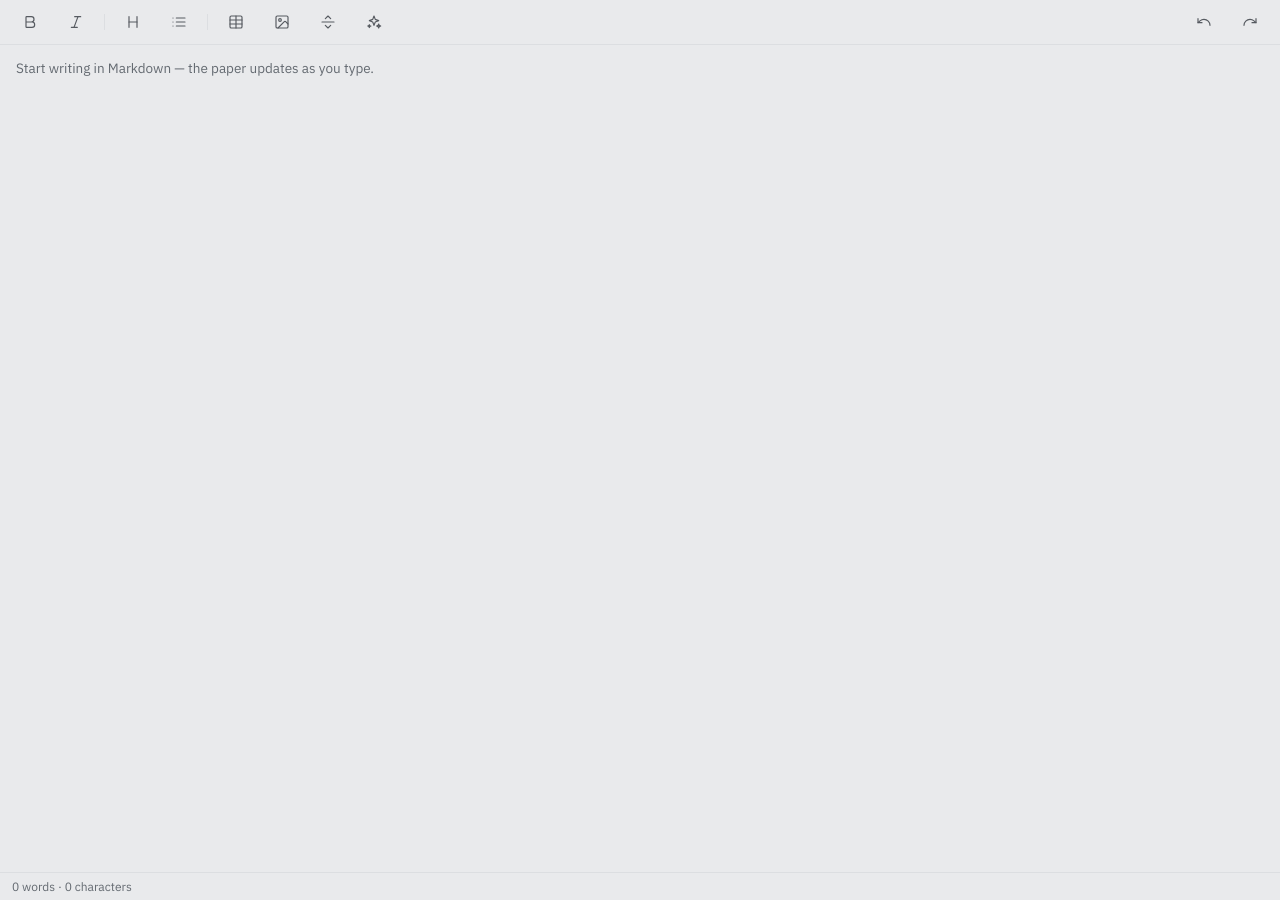
Test: the popup › opens from the hint on a click
Type "/ai" into the field labelled "Start writing in Markdown — the paper updates as you type.". click: (195, 68)
box: [16, 59, 374, 77]
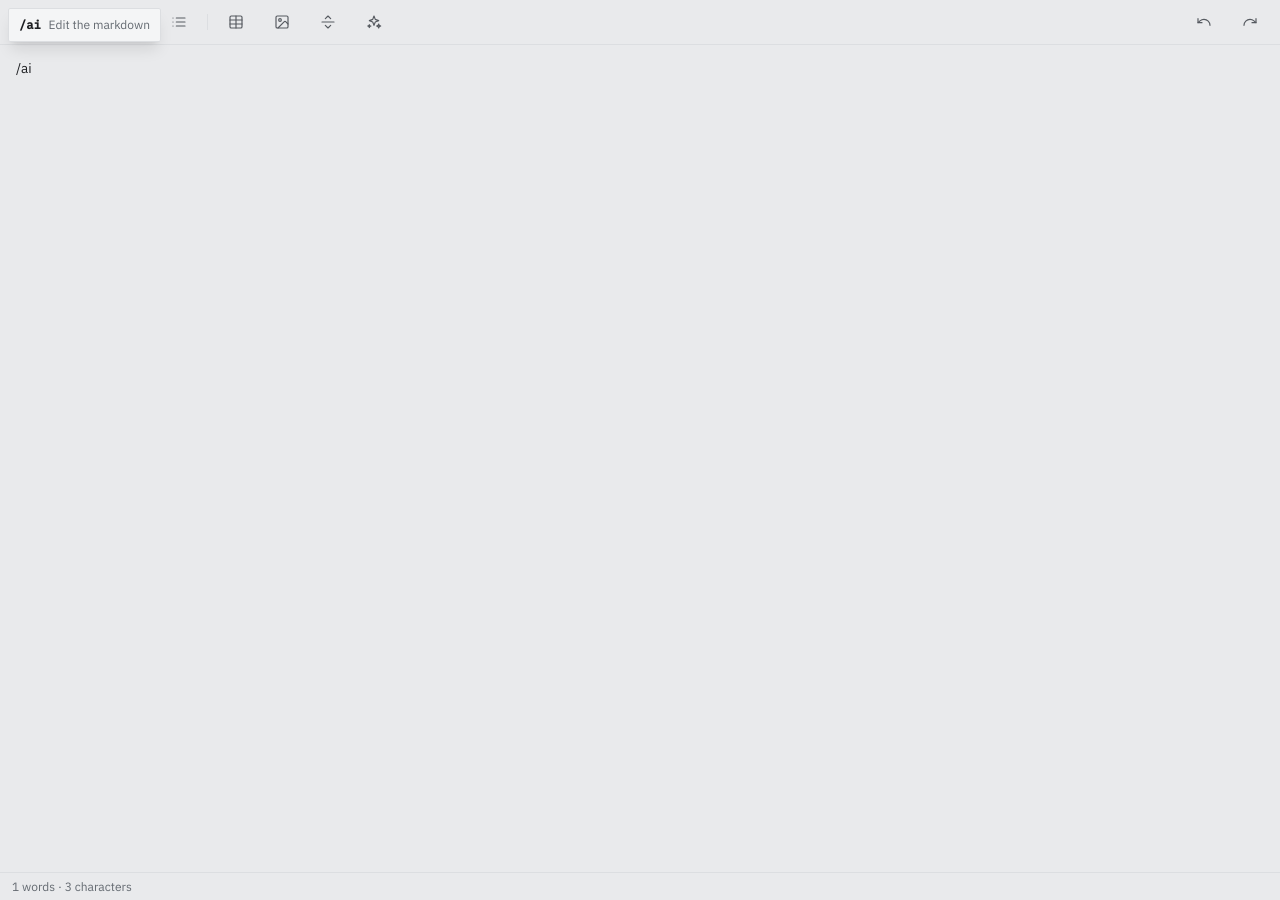
Click the button "/ai Edit the markdown". click: click(84, 25)
box: [9, 13, 160, 37]
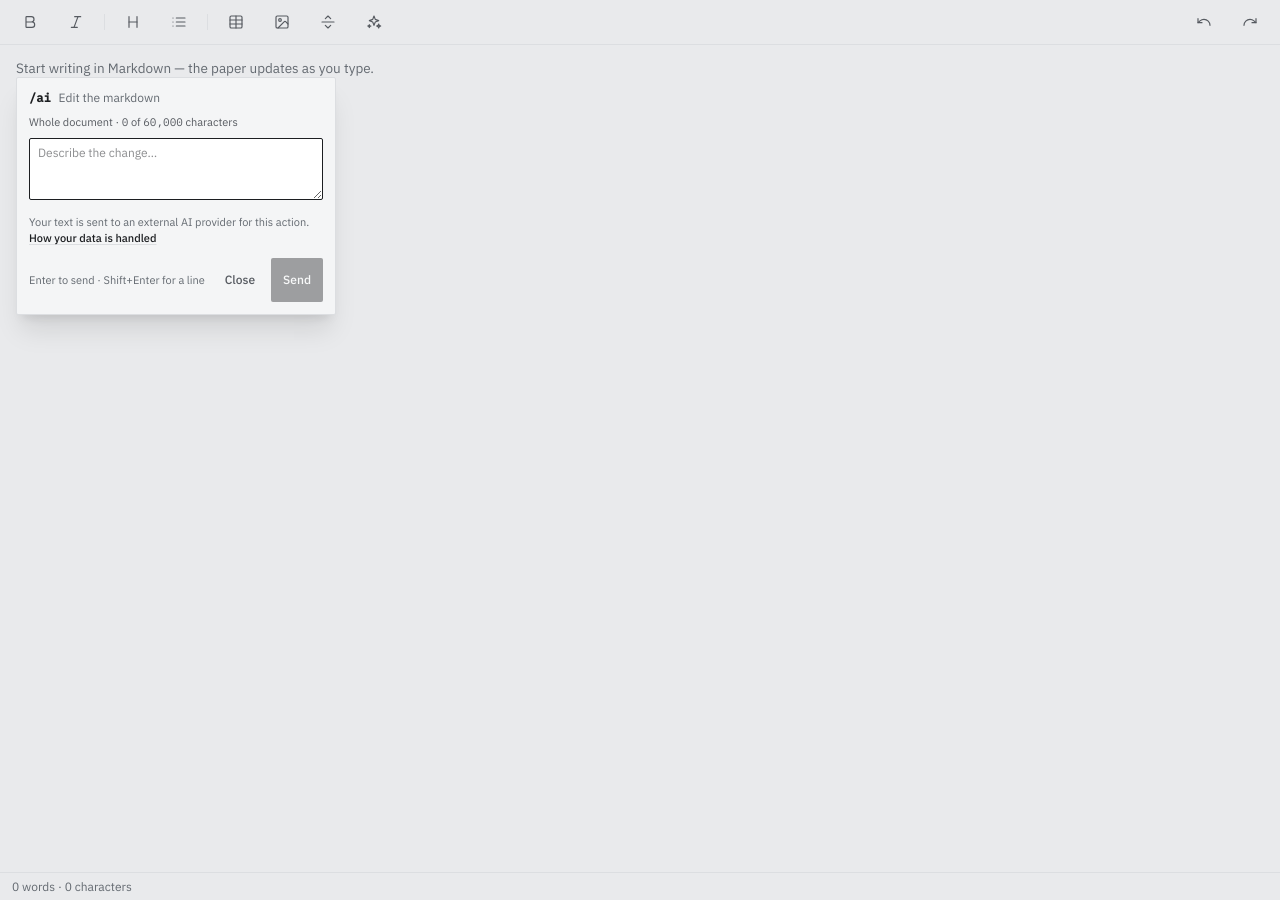
Check: the dialog with test id "ai-prompt" is shown, box [16, 77, 336, 315]
